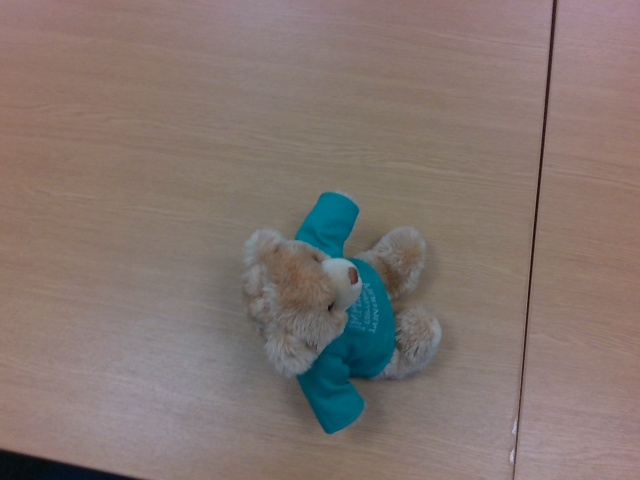teddy: (241, 188, 442, 432)
